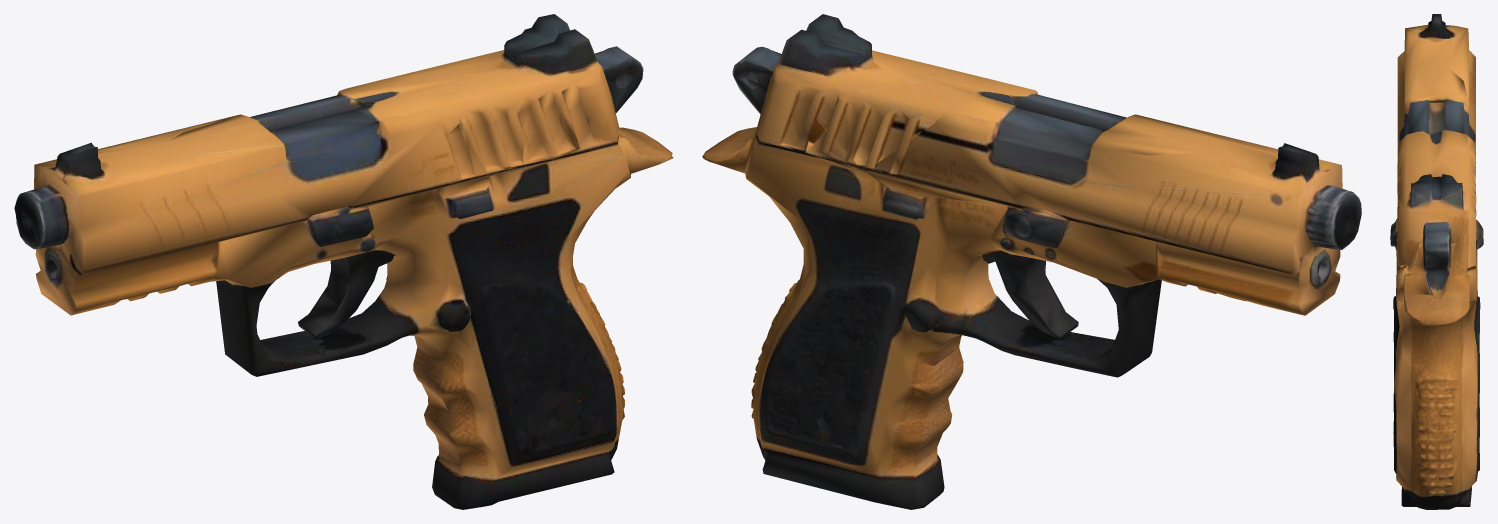
File: wpn_pistol.glb
The picture shows the model from 3 angles, left to right: view 1: azimuth 30°, elevation 25°; view 2: azimuth 150°, elevation 25°; view 3: azimuth 270°, elevation 25°; orthographic projection. The views are drawn at different scales.
Size of the model in its own units: 1.91 by 1.27 by 0.3367.
1 material, 1 textured.
